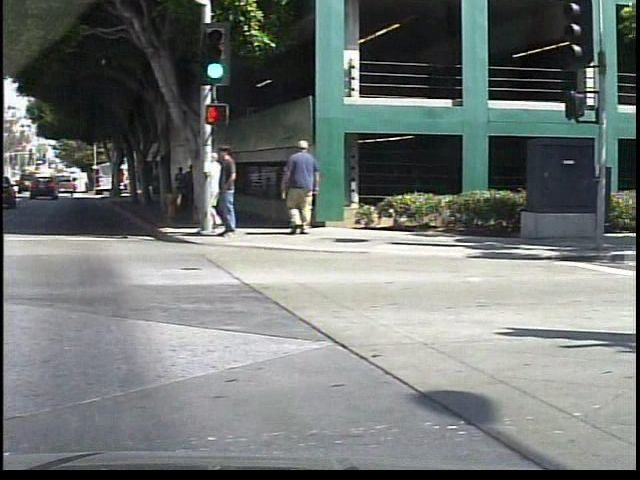person: (279, 141, 332, 239), (211, 138, 250, 244), (203, 149, 231, 233), (184, 164, 200, 221)
